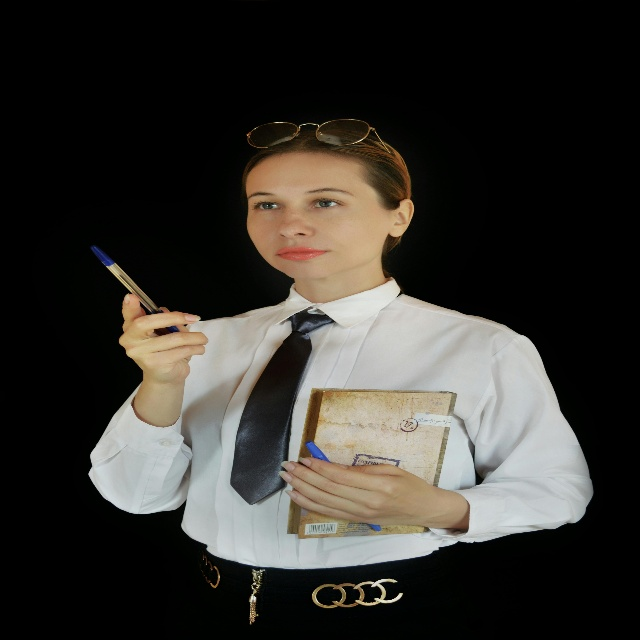Gafas: (245, 117, 390, 153)
Sin_guantes: (279, 456, 425, 527), (118, 293, 208, 383)
